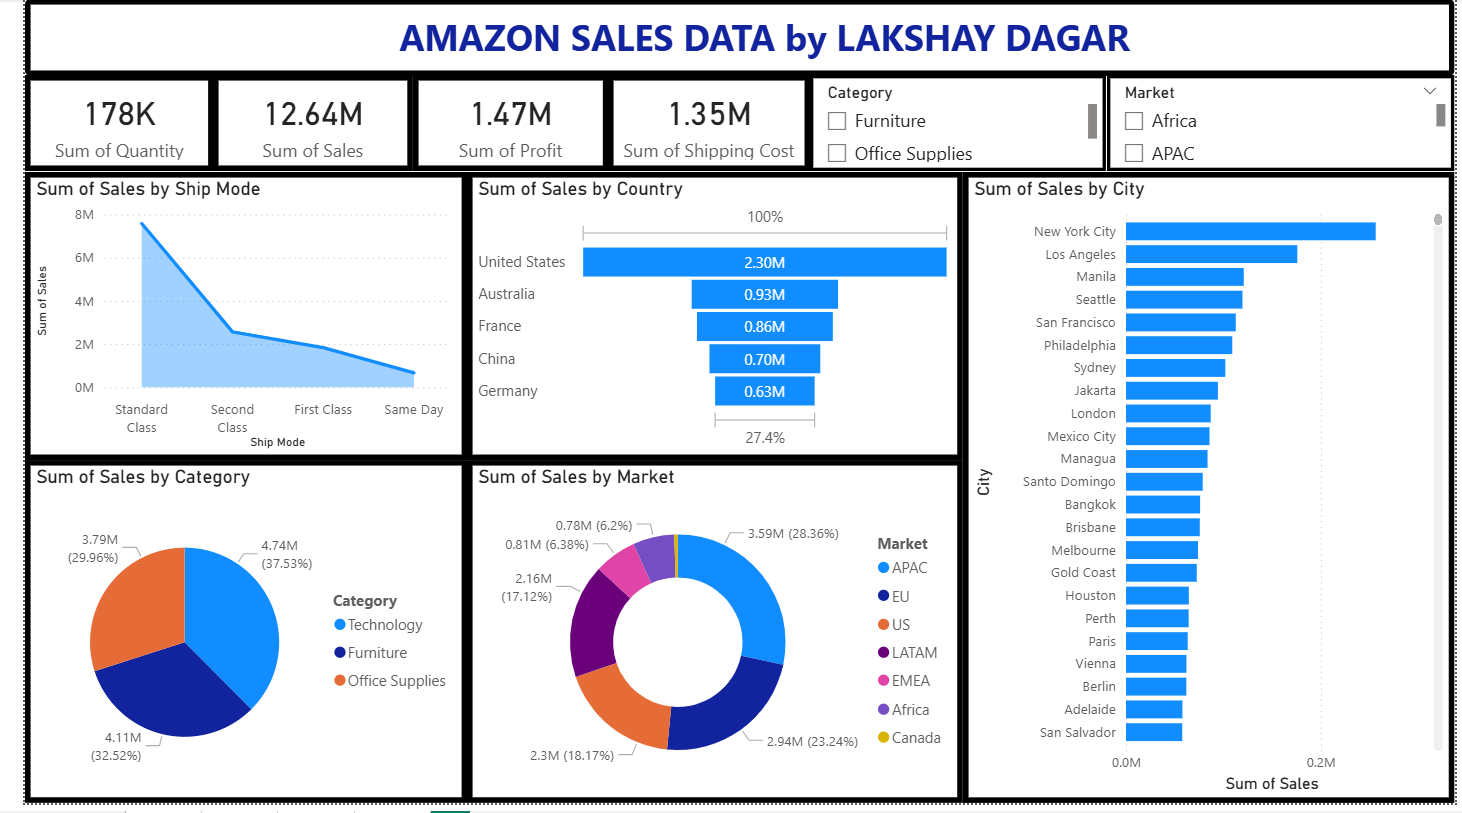

This screenshot's page, from the dashboard's own definition file:
{"tool":"powerbi","page":{"name":"Page 1","canvas":[1280,720],"ordinal":0},"visuals":[{"type":"pieChart","fields":{"Category":["Orders.Category"],"Y":["Sum(Orders.Sales)"]},"box":[0,412.4,395.9,307.4],"z":0},{"type":"donutChart","fields":{"Category":["Orders.Market"],"Y":["Sum(Orders.Sales)"]},"box":[395.9,412.4,444.5,307.4],"z":1000},{"type":"areaChart","fields":{"Category":["Orders.Ship Mode"],"Y":["Sum(Orders.Sales)"]},"box":[0,154.7,395.9,257.8],"z":2000},{"type":"clusteredBarChart","fields":{"Category":["Orders.City"],"Y":["Sum(Orders.Sales)"]},"box":[840.4,154.7,439.6,565.1],"z":3000},{"type":"funnel","fields":{"Y":["Sum(Orders.Sales)"],"Category":["Orders.Country"]},"box":[395.9,154.7,444.5,257.8],"z":3001},{"type":"textbox","box":[0,0,1280,68.7],"z":3002},{"type":"card","fields":{"Values":["Sum(Orders.Quantity)"]},"box":[0,68.3,168.8,86.4],"z":3003},{"type":"card","fields":{"Values":["Sum(Orders.Sales)"]},"box":[168.8,68.3,178.8,86.4],"z":3004},{"type":"card","fields":{"Values":["Sum(Orders.Profit)"]},"box":[347.6,68.3,174.8,86.4],"z":3005},{"type":"card","fields":{"Values":["Sum(Orders.Shipping Cost)"]},"box":[522.4,68.3,180.8,86.4],"z":3006},{"type":"slicer","fields":{"Values":["Orders.Category"]},"box":[703.3,68.3,265.2,86.4],"z":3007},{"type":"slicer","fields":{"Values":["Orders.Market"]},"box":[968.5,68.3,311.5,86.4],"z":3008}]}

Visuals, with their boxes in screenshot pixels (x1, y1, x2, y2), scaled from the page's 1280x720 canvas onto the 1462x813 screenshot:
pieChart - Orders.Category x Sum(Orders.Sales): locate(0, 466, 452, 812)
donutChart - Orders.Market x Sum(Orders.Sales): locate(452, 466, 960, 812)
areaChart - Orders.Ship Mode x Sum(Orders.Sales): locate(0, 175, 452, 466)
clusteredBarChart - Orders.City x Sum(Orders.Sales): locate(960, 175, 1461, 812)
funnel - Sum(Orders.Sales) x Orders.Country: locate(452, 175, 960, 466)
textbox: locate(0, 0, 1461, 78)
card - Sum(Orders.Quantity): locate(0, 77, 193, 175)
card - Sum(Orders.Sales): locate(193, 77, 397, 175)
card - Sum(Orders.Profit): locate(397, 77, 597, 175)
card - Sum(Orders.Shipping Cost): locate(597, 77, 803, 175)
slicer - Orders.Category: locate(803, 77, 1106, 175)
slicer - Orders.Market: locate(1106, 77, 1461, 175)
